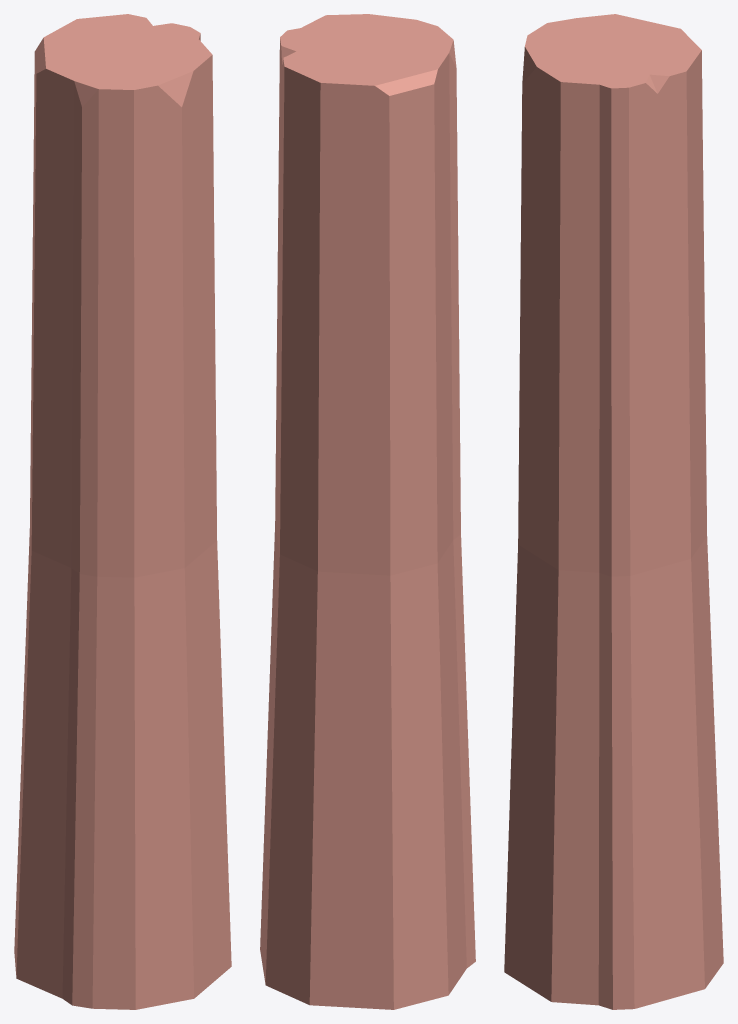
Rendered from Cylinder_033_Vlad.fbx.
3 views of the same model, side by side, from view 1: azimuth 30°, elevation 25°; view 2: azimuth 150°, elevation 25°; view 3: azimuth 270°, elevation 25° (orthographic).
Visible parts, largest first — view 1: Cylinder.033; view 2: Cylinder.033; view 3: Cylinder.033.
Part boxes in pixels (bbox=[...]): Cylinder.033: bbox=[14, 14, 231, 1009]; Cylinder.033: bbox=[260, 14, 475, 1009]; Cylinder.033: bbox=[504, 14, 723, 1009].
Bounding box in the file's own units: 109 × 500 × 109.
